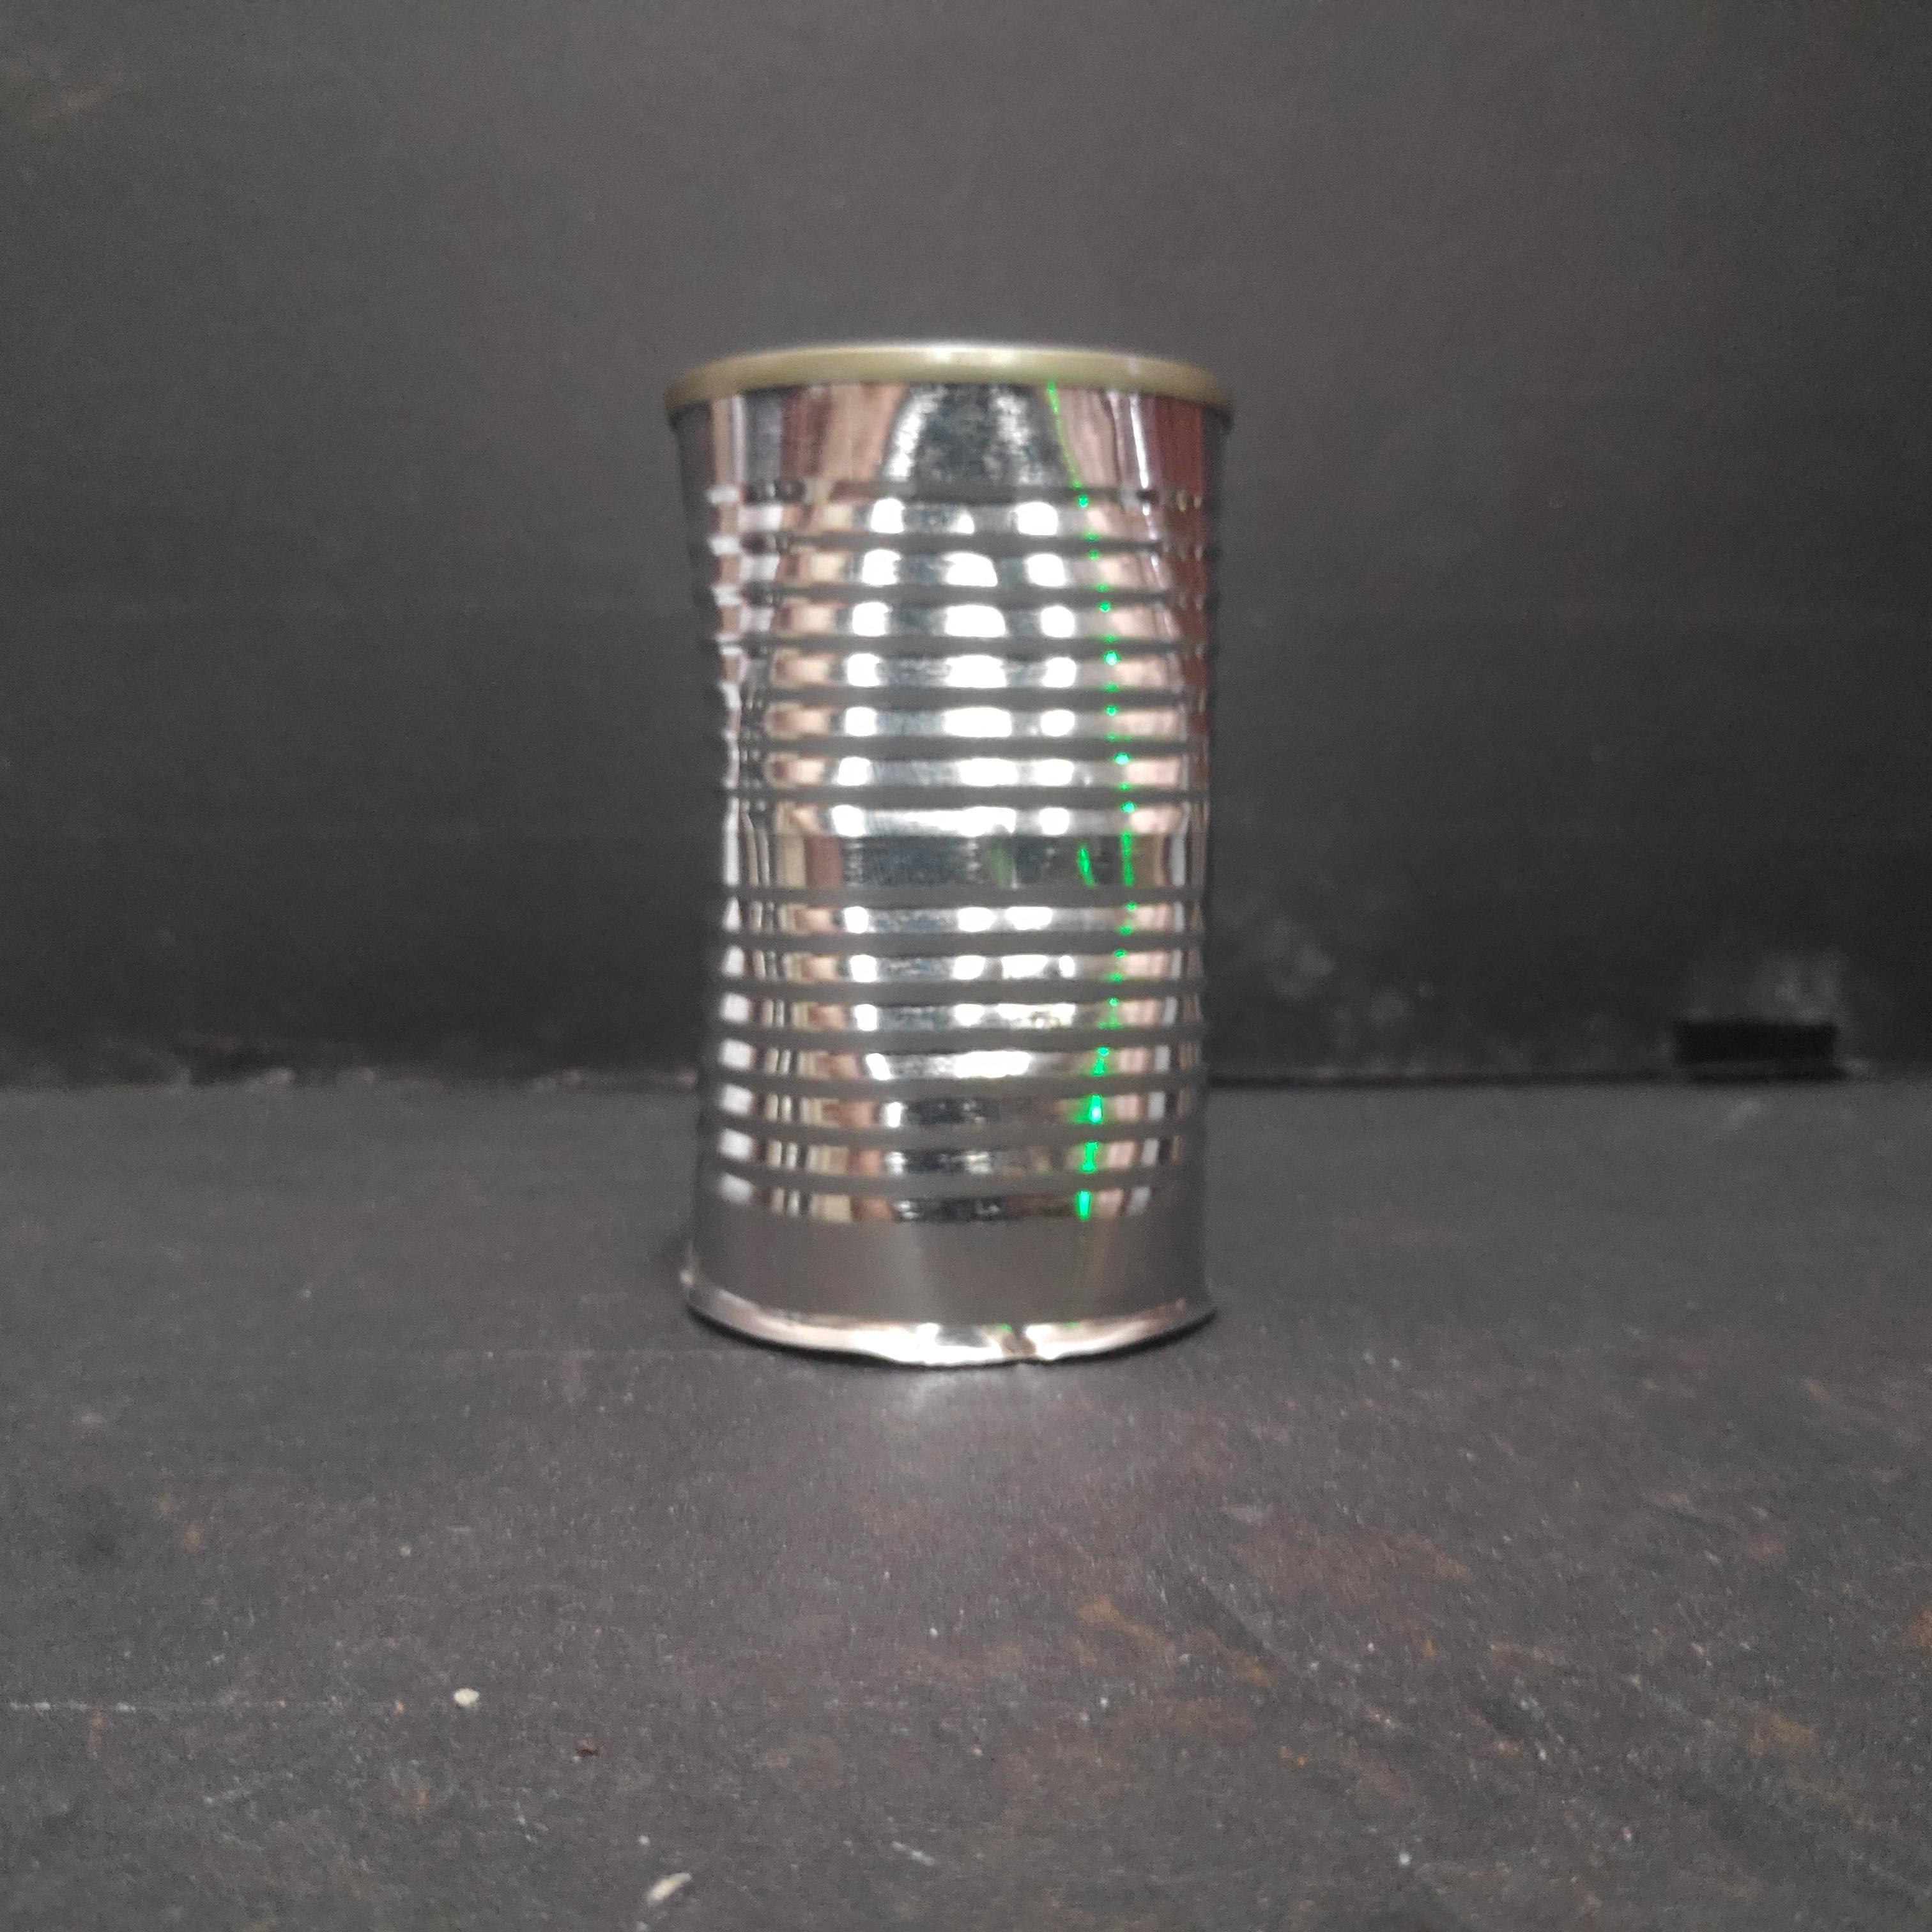Minor Defect: (663, 333, 1245, 1388)
